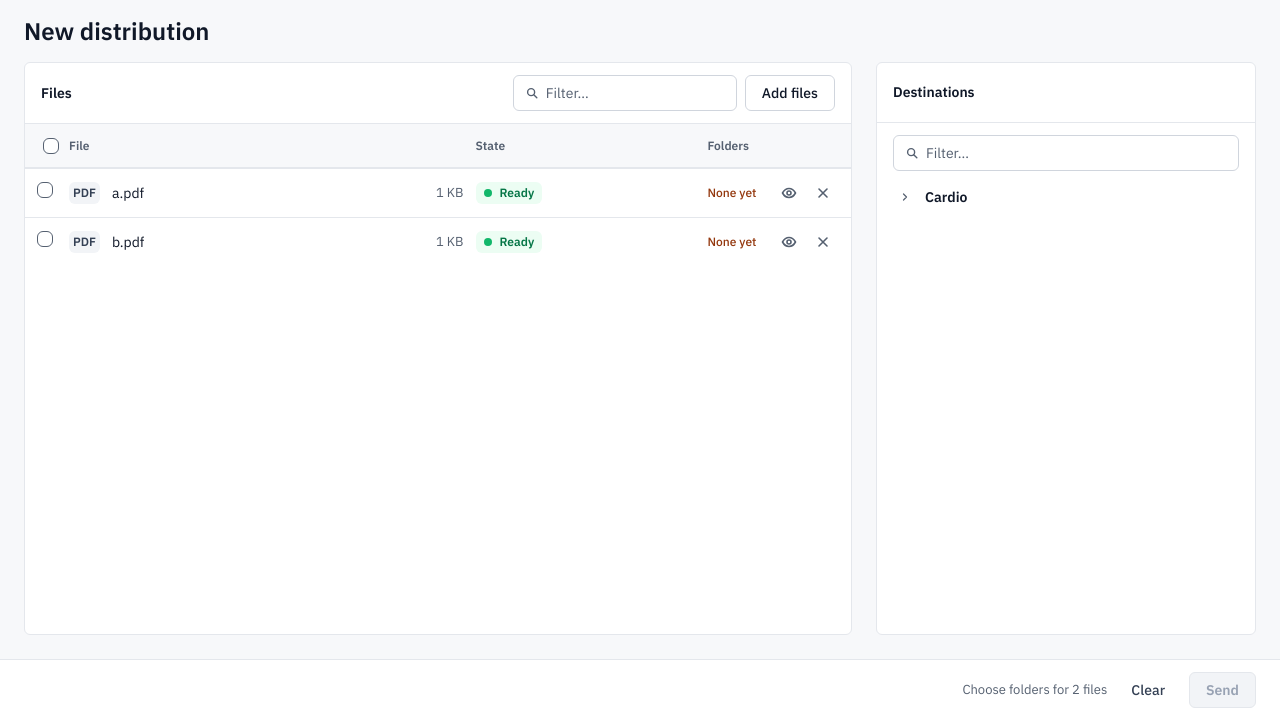
it: Distribute › has no summary line in the bar; the batch is in the question that Send asks (D-F1-20)
Click the button named "Expand Cardio". click: click(905, 197)
box: [893,185,917,209]
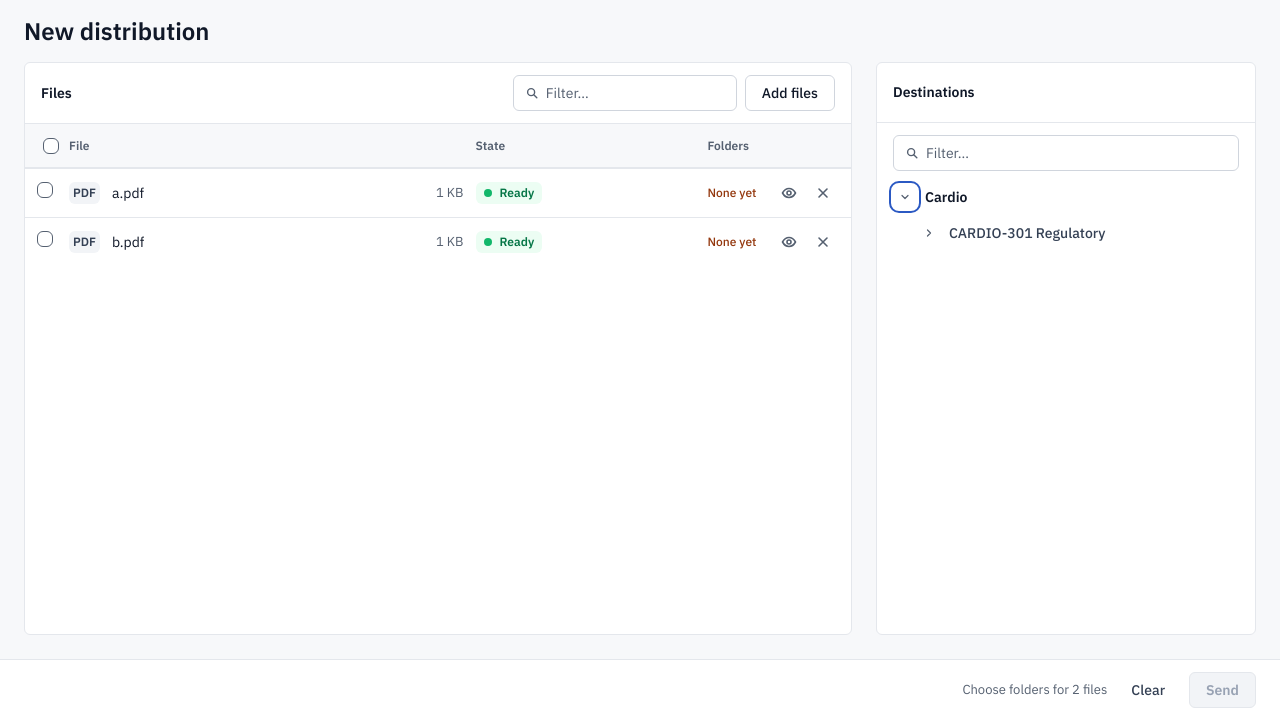
Click the button named "Expand CARDIO-301 Regulatory". click: click(929, 233)
box: [917,221,941,245]
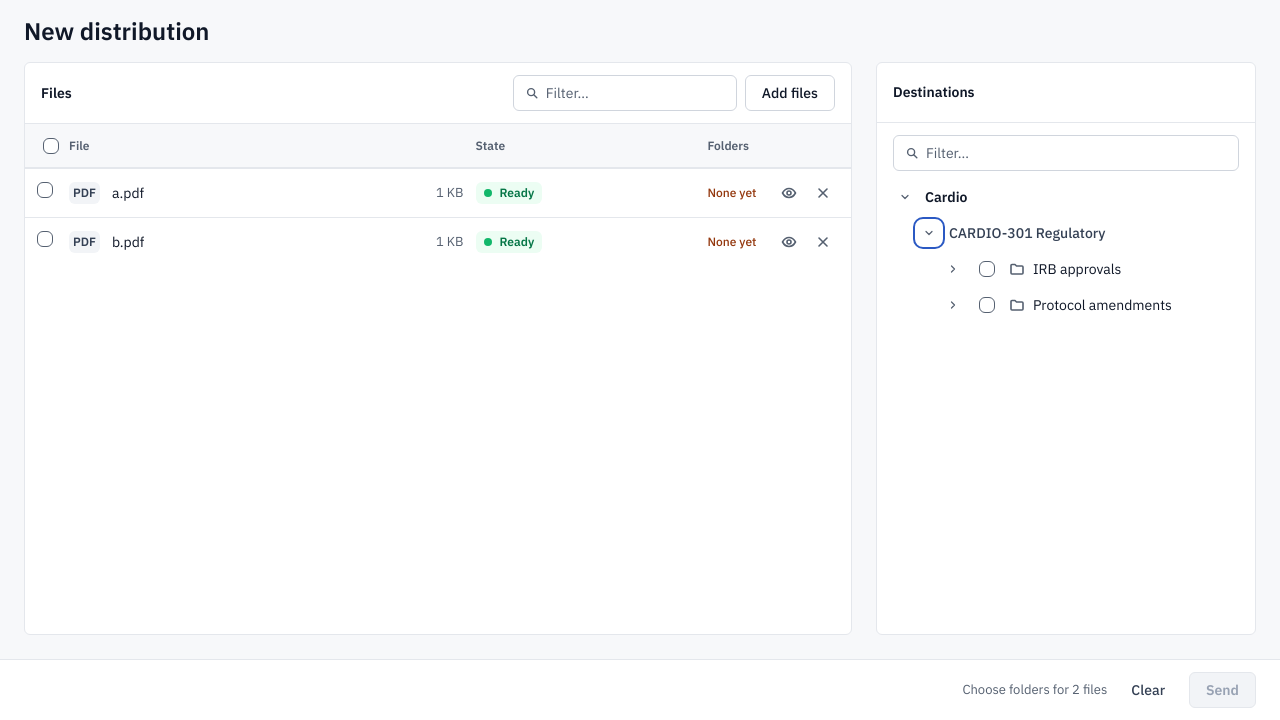
Click the checkbox named "Send all 2 files to Cardio / CARDIO-301 Regulatory / IRB app". click: click(987, 269)
box: [973,255,1001,283]
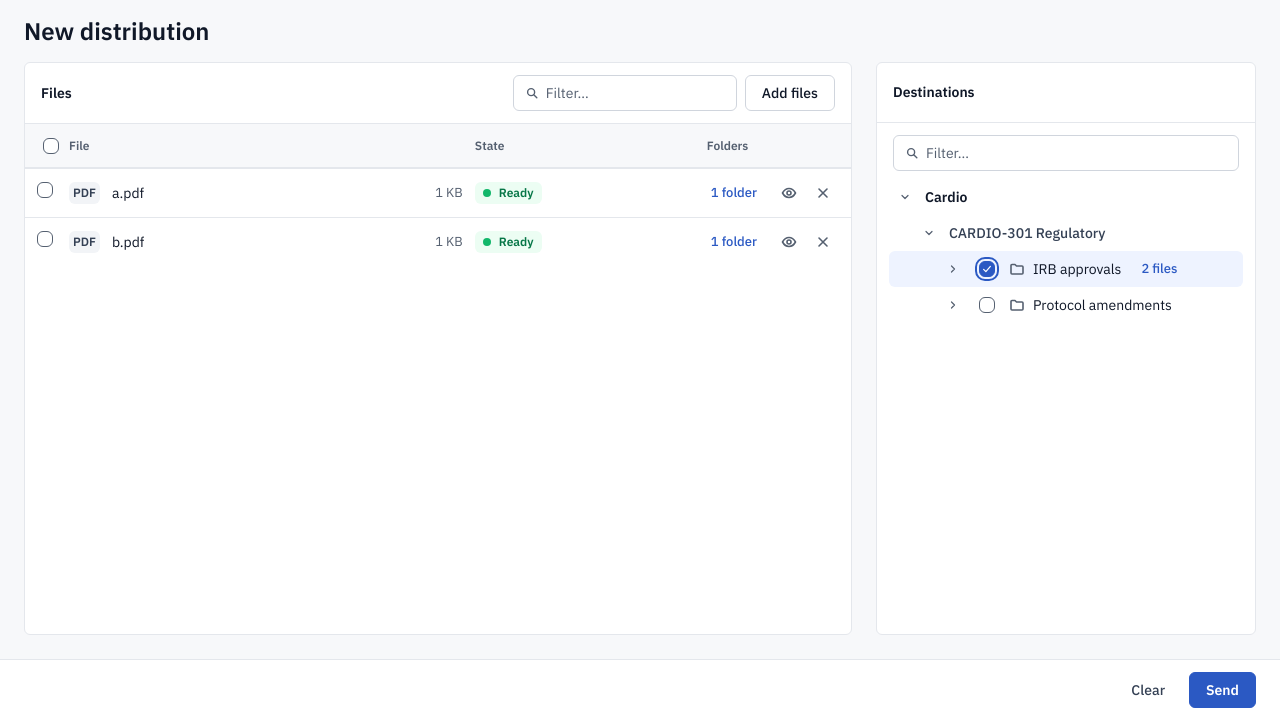
Click the button "Send". click: click(1222, 690)
box: [1189,672,1256,708]
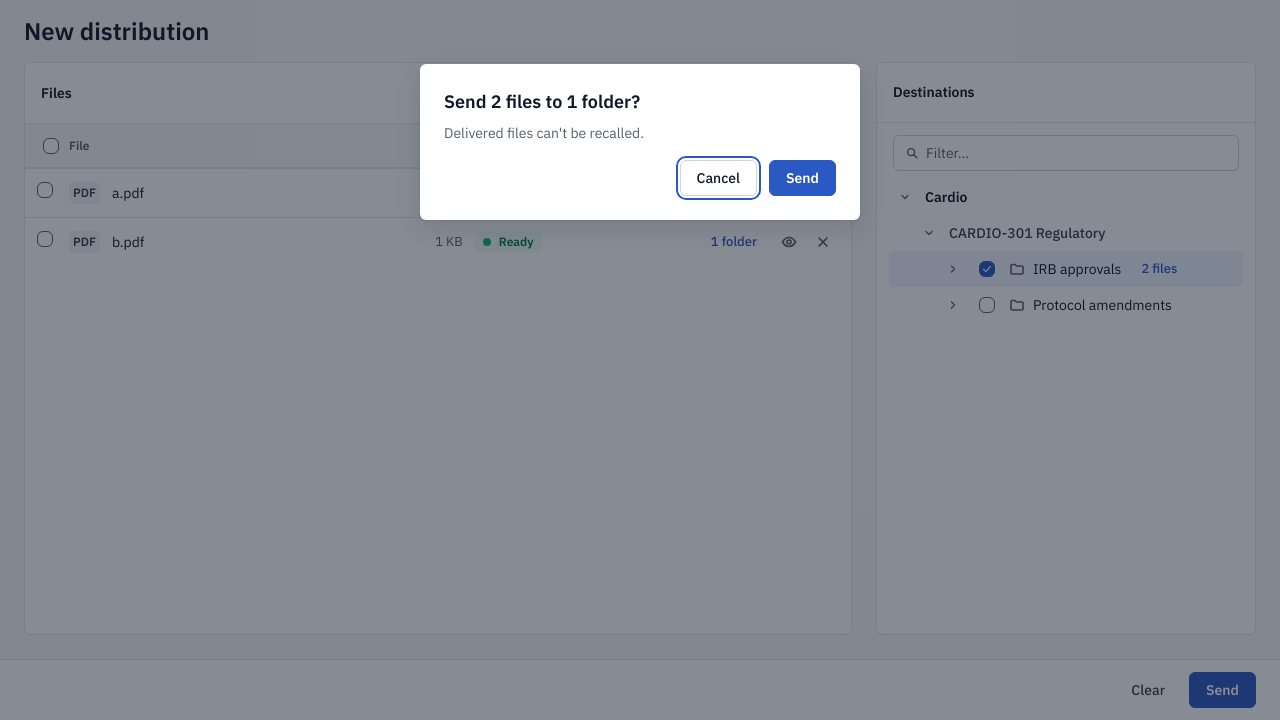
Check: the dialog "Send 2 files to 1 folder?" is shown, box [420,64,860,220]
